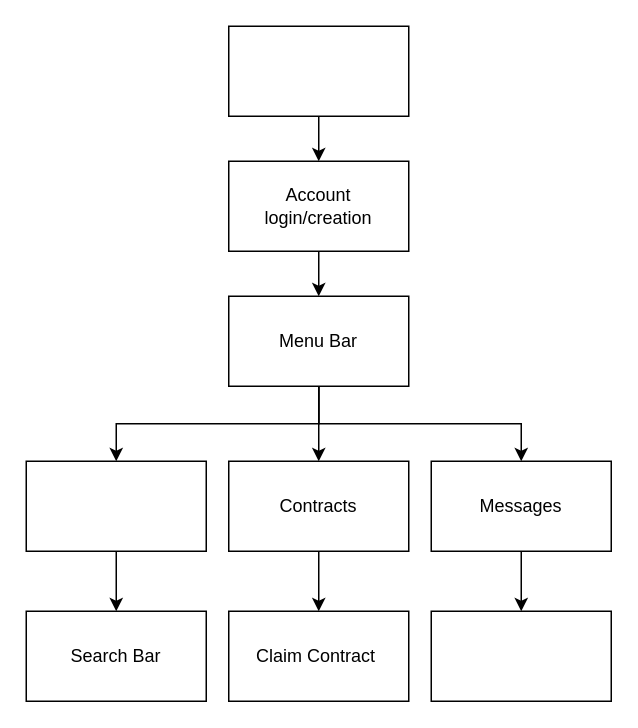
The diagram is 638 pixels wide and 728 high, and some of its shapes have lost their labels. Each missing label, with the centre of its shape:
"Home/Posts" belongs at point 115,505.
"Landing Page" belongs at point 318,70.
"Send messege" belongs at point 520,655.
